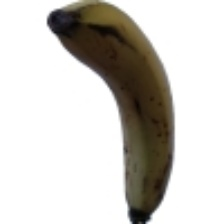banana: (19, 23, 163, 163)
